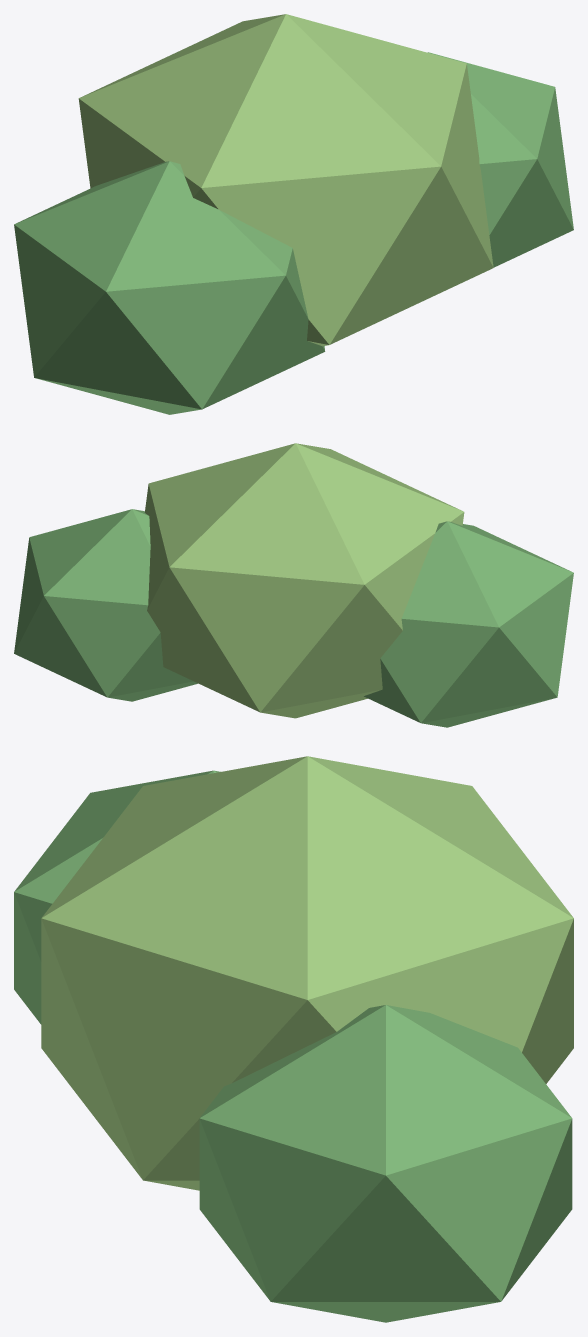
Rendered from Bush.fbx.
3 renders of one model, top to bottom at view 1: azimuth 30°, elevation 25°; view 2: azimuth 150°, elevation 25°; view 3: azimuth 270°, elevation 25°, orthographic. The views are drawn at different scales.
Parts seen in each view (by area): view 1: Leaf0.001, Leaf2, Leaf1.001; view 2: Leaf0.001, Leaf2, Leaf1.001; view 3: Leaf0.001, Leaf1.001, Leaf2.
Part boxes in pixels (box(x1,y1,x2,y2)): Leaf0.001: box(78, 14, 493, 346); Leaf2: box(14, 161, 325, 414); Leaf1.001: box(428, 52, 573, 267); Leaf0.001: box(144, 443, 464, 718); Leaf2: box(364, 521, 573, 727); Leaf1.001: box(14, 509, 197, 701); Leaf0.001: box(41, 756, 573, 1190); Leaf1.001: box(199, 1005, 572, 1322); Leaf2: box(14, 770, 220, 1024).
Size of the model in its own units: 0.5794 by 0.32 by 0.3577.
